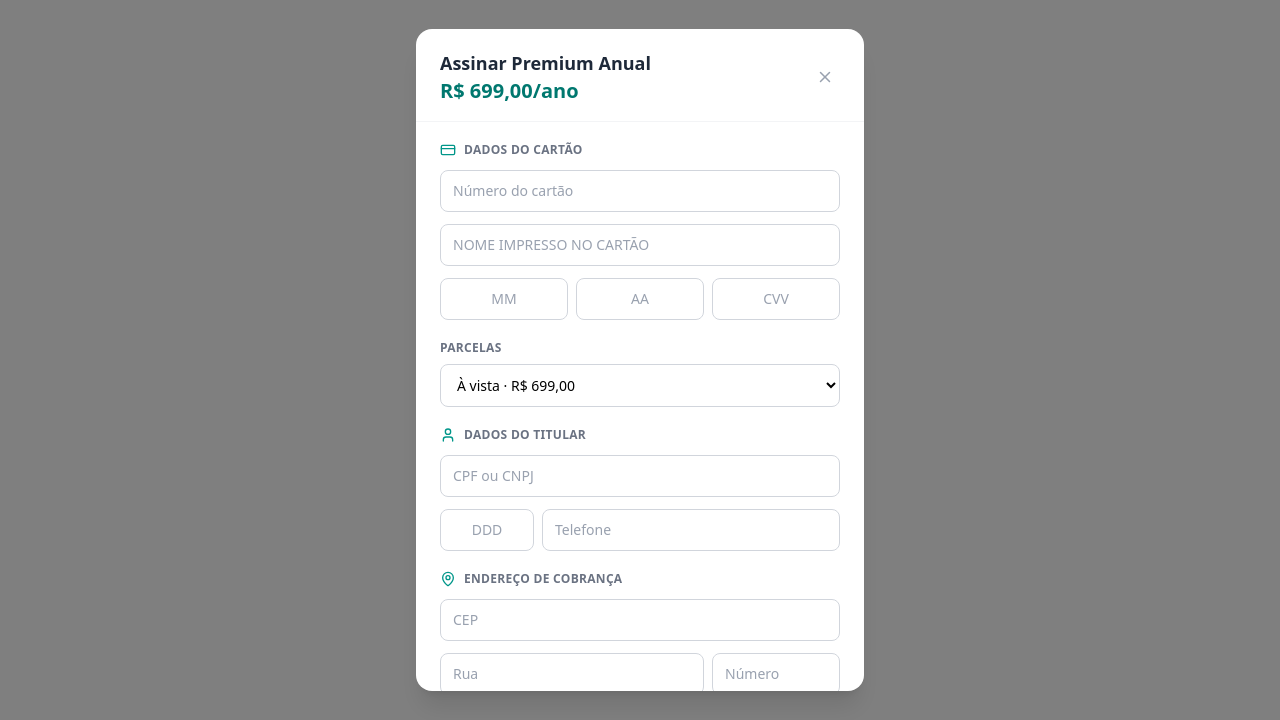
Scenario: Formulário de pagamento › aplica as máscaras (cartão, CPF, CNPJ, validade, nome, UF)
Type "4111abc2222.3333-4444" into the field with placeholder "Número do cartão" at (640,191), box [440,170,840,212]
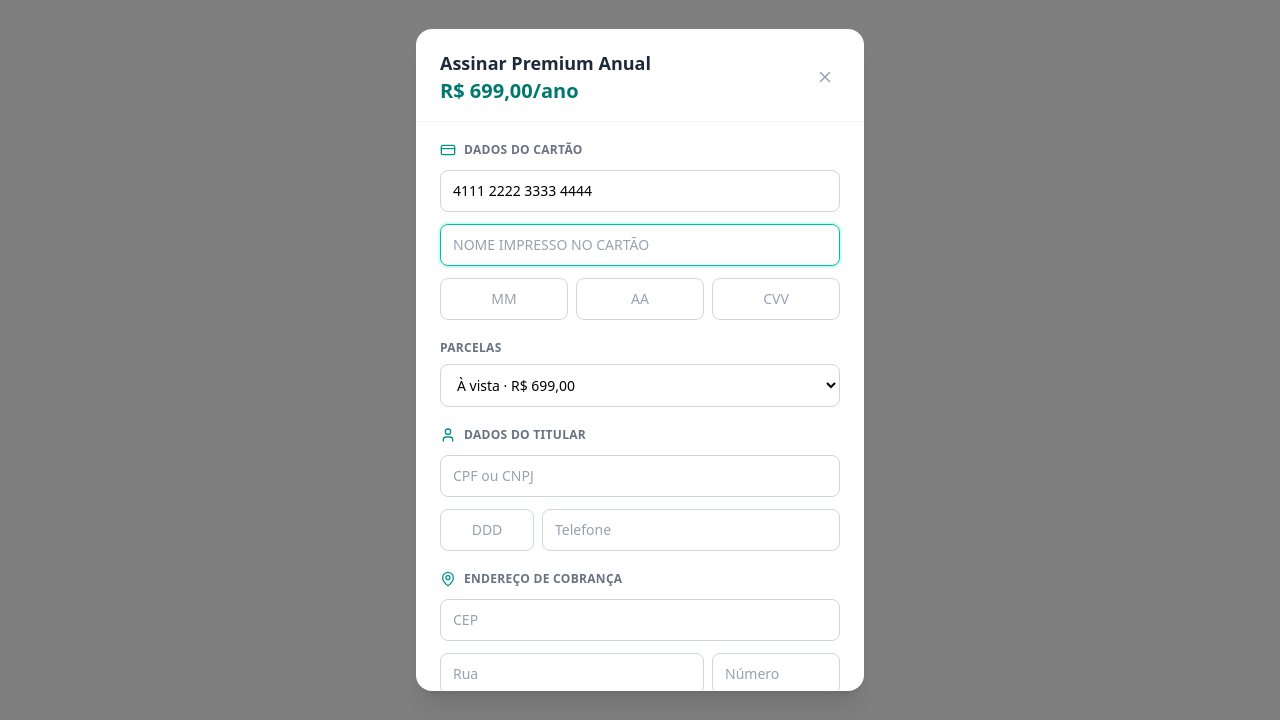
Result: the field with placeholder "Número do cartão" holds "4111 2222 3333 4444" at [440,170,840,212]
Type "12345678909" into the field with placeholder "CPF ou CNPJ" at (640,476), box [440,455,840,497]
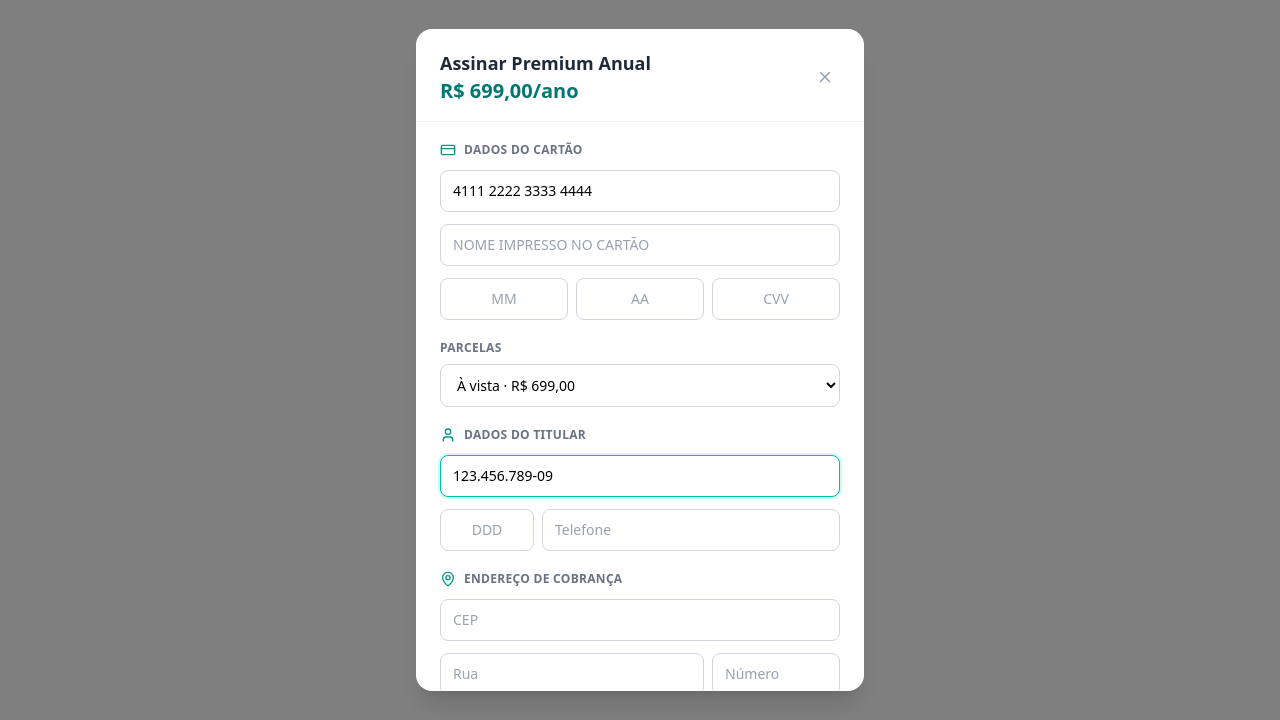
Result: the field with placeholder "CPF ou CNPJ" below "Dados do titular" holds "123.456.789-09"
Replace the text in the field with placeholder "CPF ou CNPJ" below "Dados do titular" with "12345678000199" at (640,476), box [440,455,840,497]
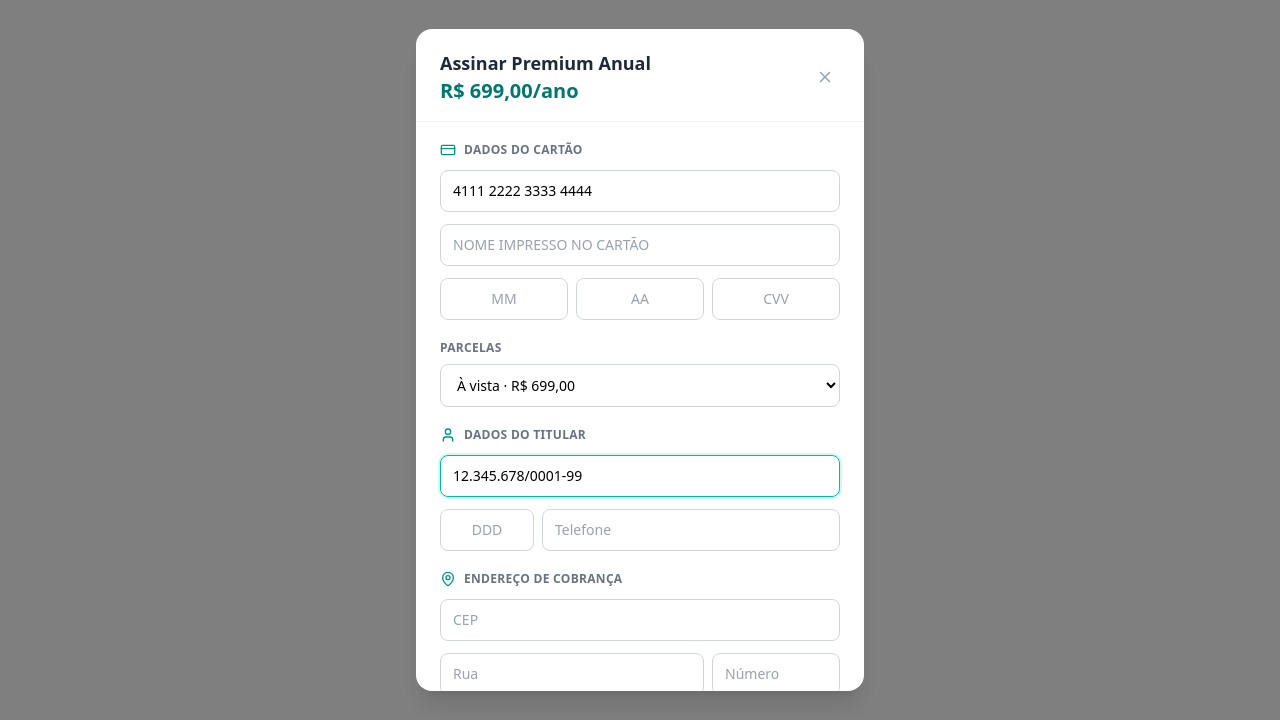
Result: the field with placeholder "CPF ou CNPJ" below "Dados do titular" holds "12.345.678/0001-99" at [440,455,840,497]
Type "1a23" into the field with placeholder "MM" at (504,299), box [440,278,568,320]
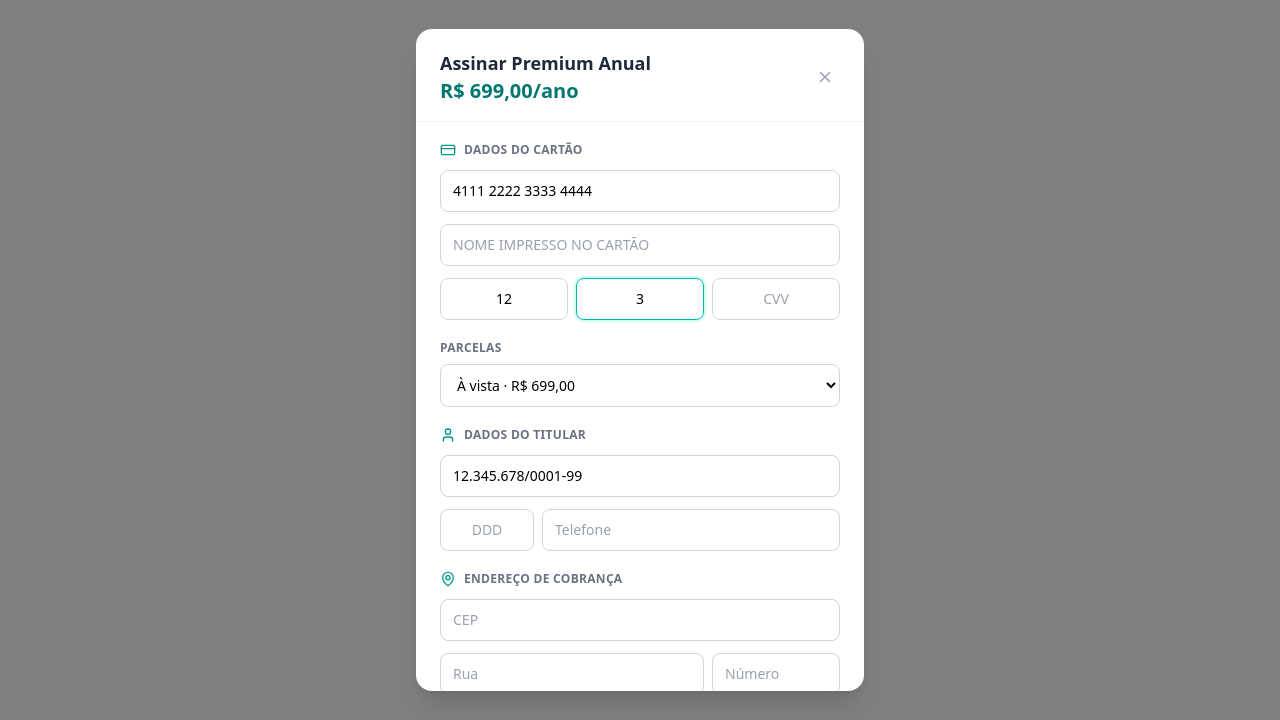
Result: the 2nd field with placeholder "MM" holds "12" at [440,278,568,320]
Type "maria" into the field with placeholder "Nome impresso no cartão" at (640,245), box [440,224,840,266]
(page scrolled)
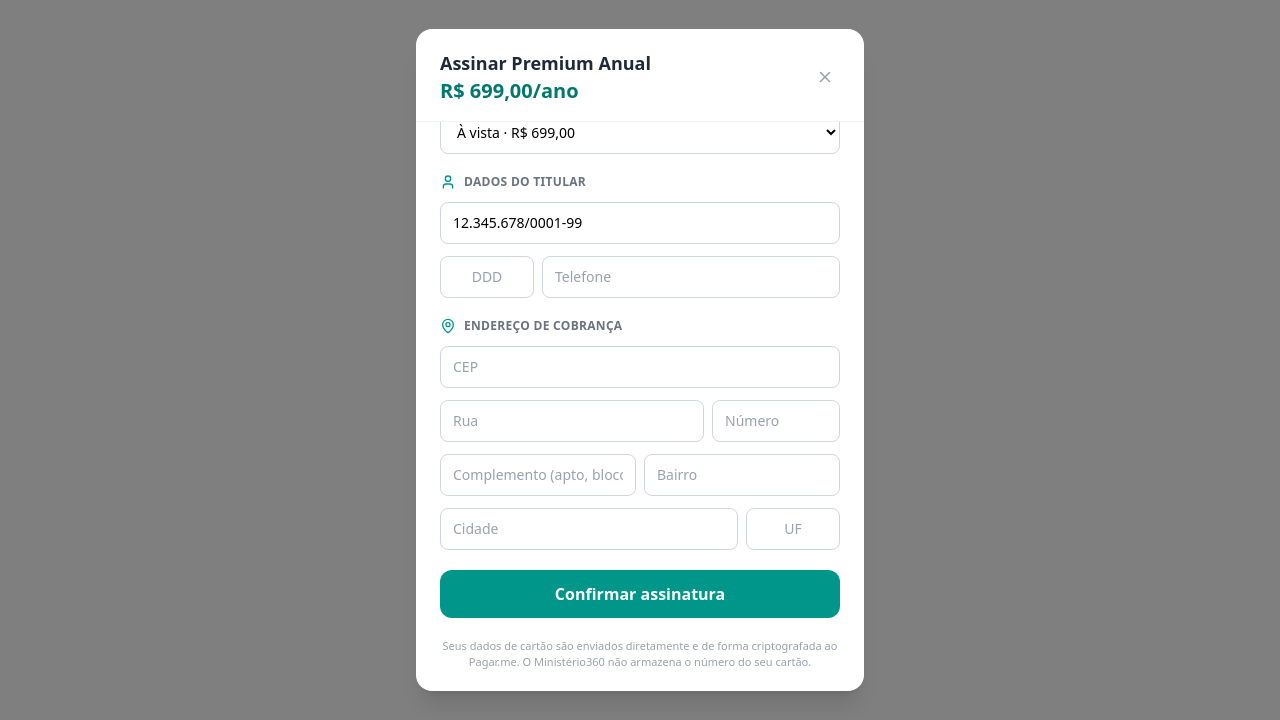
Type "spx" into the field with placeholder "UF" at (793,529), box [746,508,840,550]
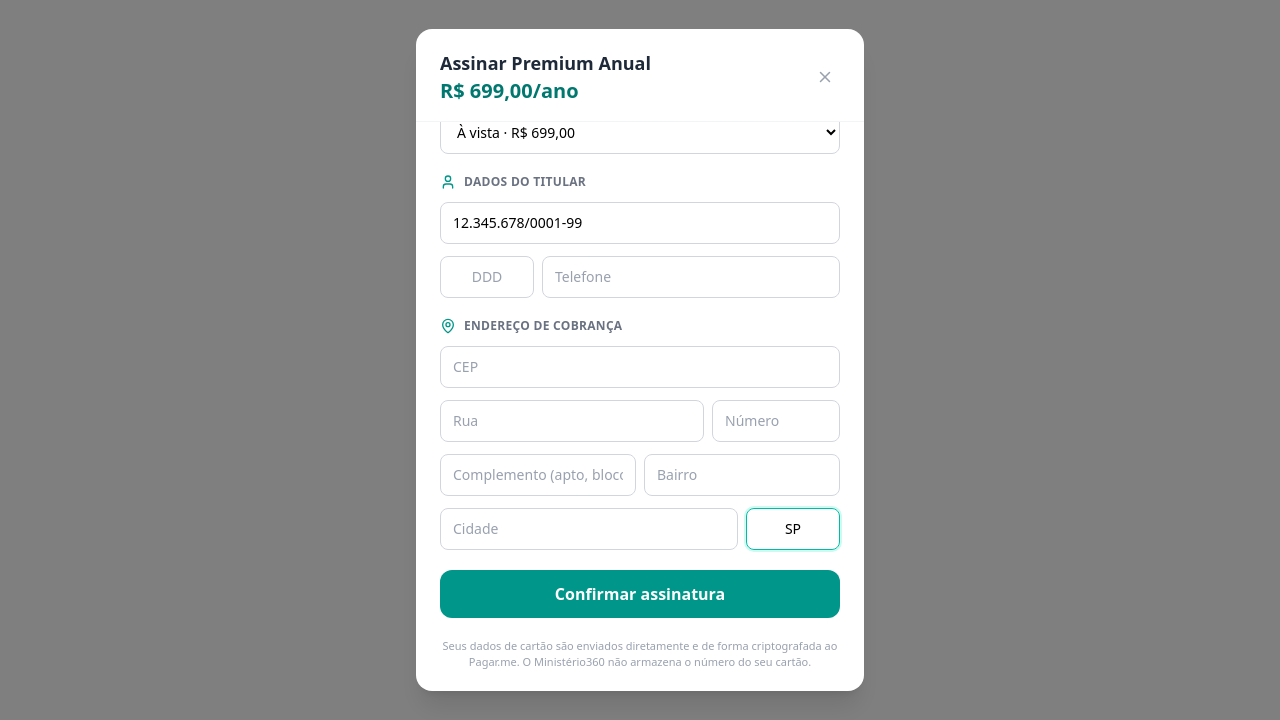
Result: the field with placeholder "UF" below "Endereço de cobrança" holds "SP" at [746,508,840,550]
